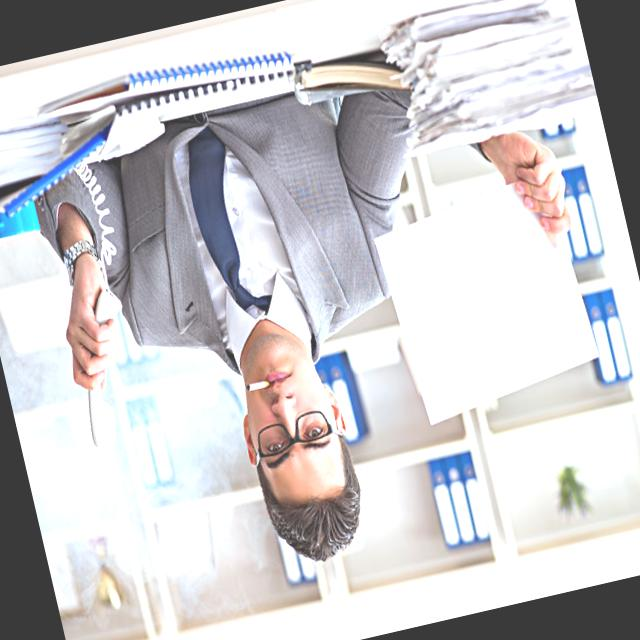smoke: (244, 376, 272, 394)
